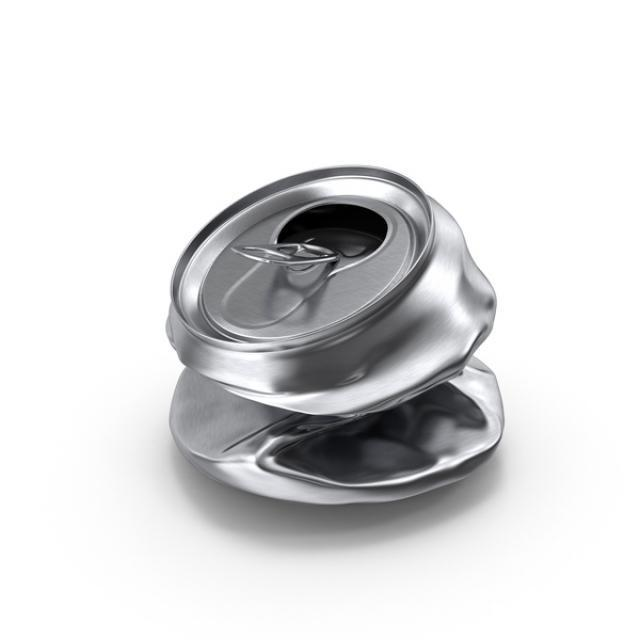metal-can: (161, 164, 507, 511)
